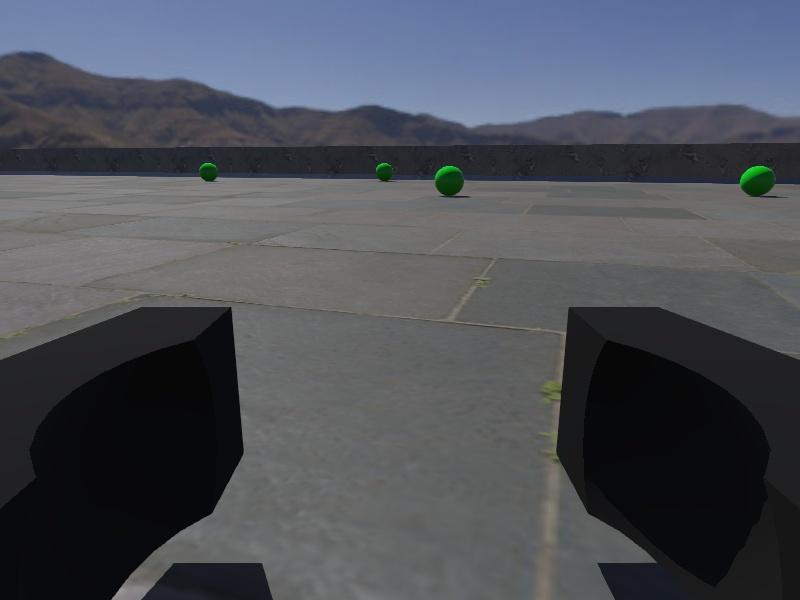green ball: (738, 164, 776, 198), (433, 165, 465, 198), (198, 161, 219, 182), (375, 162, 394, 182)
